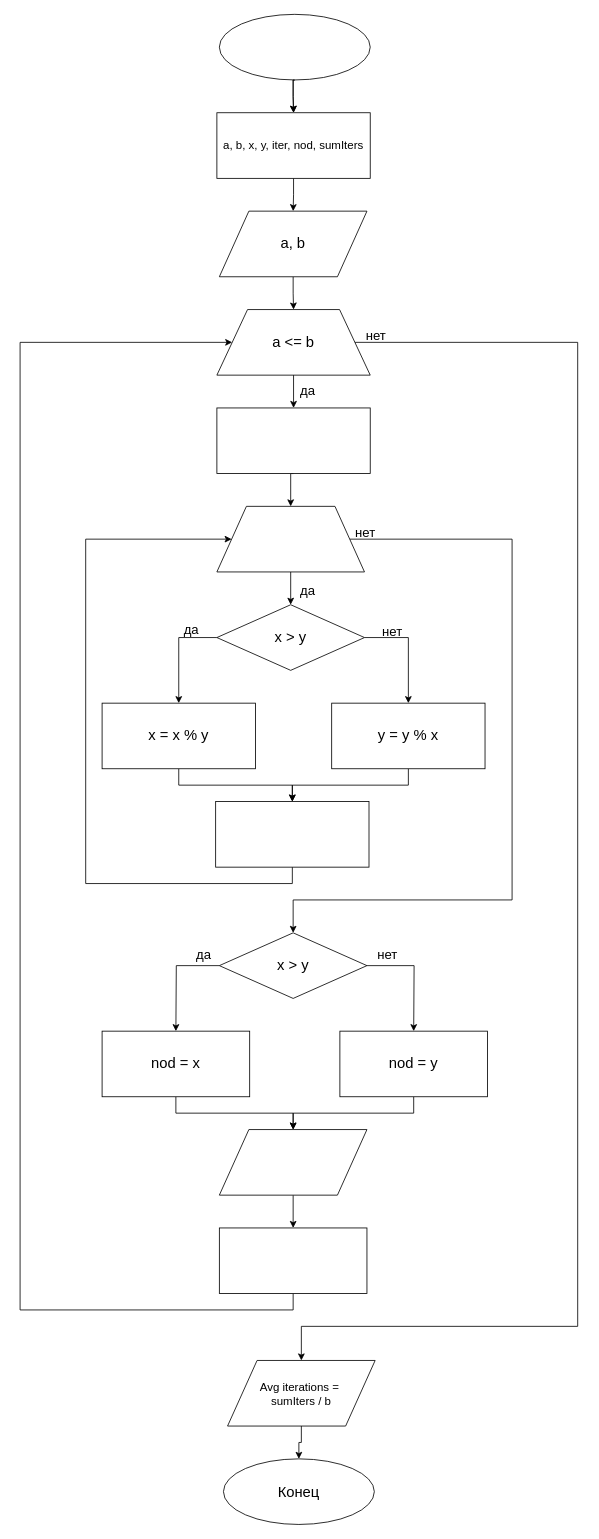
Some shapes in this 599 by 1539 pixel diagram are drawn without their labels. The centre of each missing label's shape, as x and y in pixels:
iter = 0 y = b x = a: [293,440]
iter = iter + 1: [292,834]
iterations = iter NOD = nod NOK = a * b / nod: [293,1162]
sumIters += iter: [293,1260]
y * x > 0: [290,539]
Начало: [294,47]
